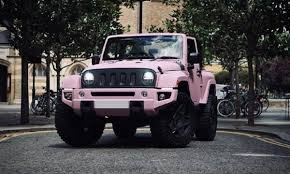mobil: (56, 32, 218, 150)
